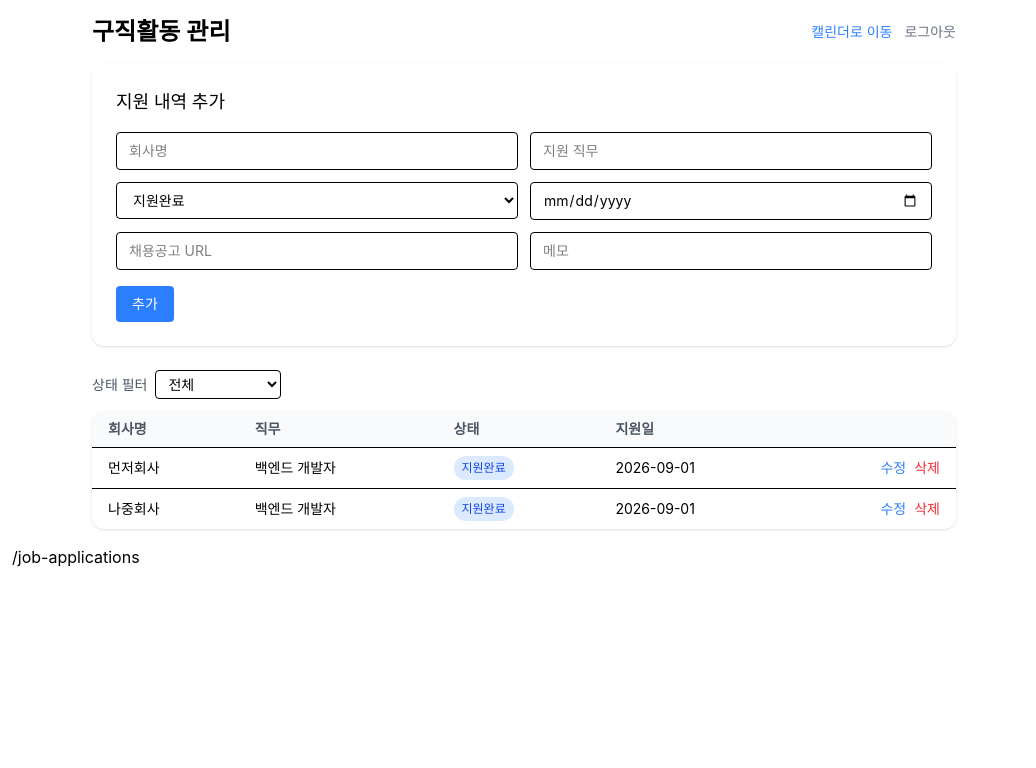
Test case: JobApplicationsPage › ?id 로 진입 › startEdit_previousResponseArrivesLate_keepsLatestForm
What coordinates should you click on to do the following:
click the button "수정" in the row of "먼저회사"
I would click on:
 (893, 468)
Its box is [880,458,906,478].
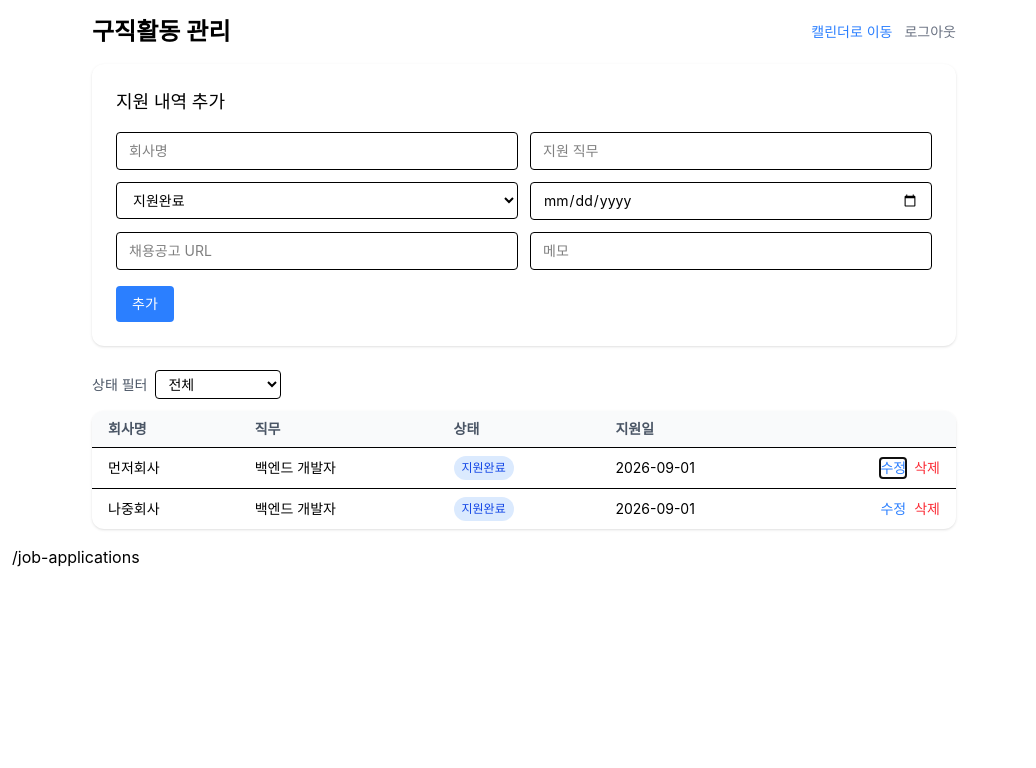
What coordinates should you click on to do the following:
click the button "수정" in the row of "나중회사"
I would click on:
 (893, 509)
Its box is [880,499,906,519].
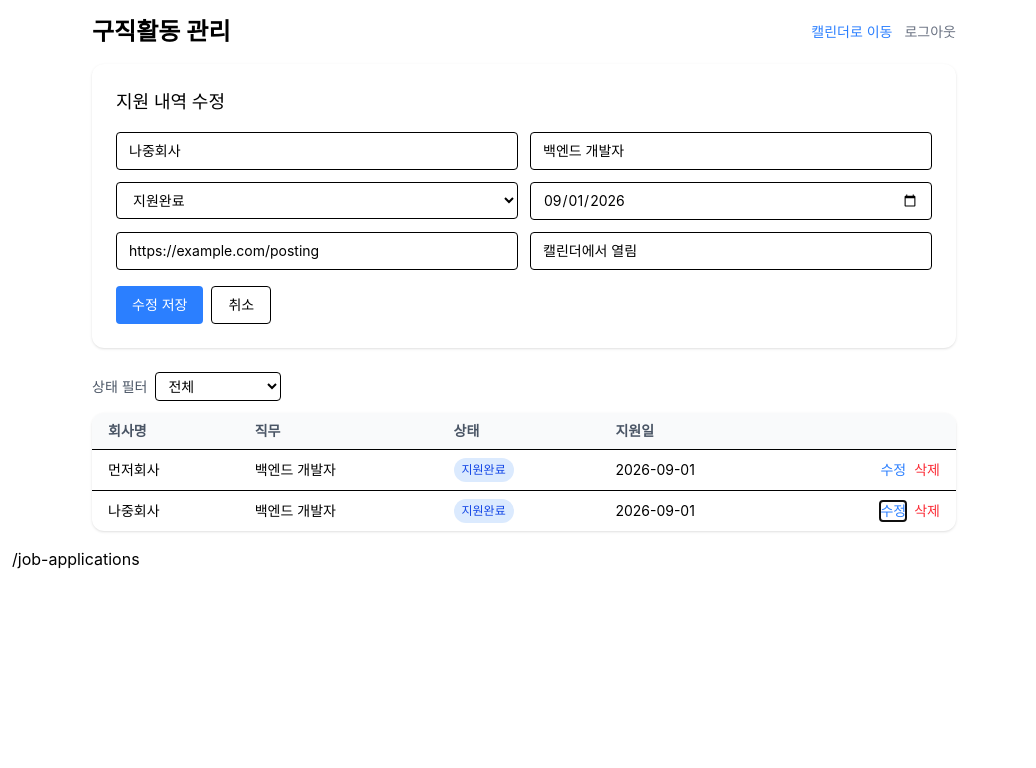
Check: the 1st field with placeholder "회사명" holds "나중회사", box [116,132,518,170]
